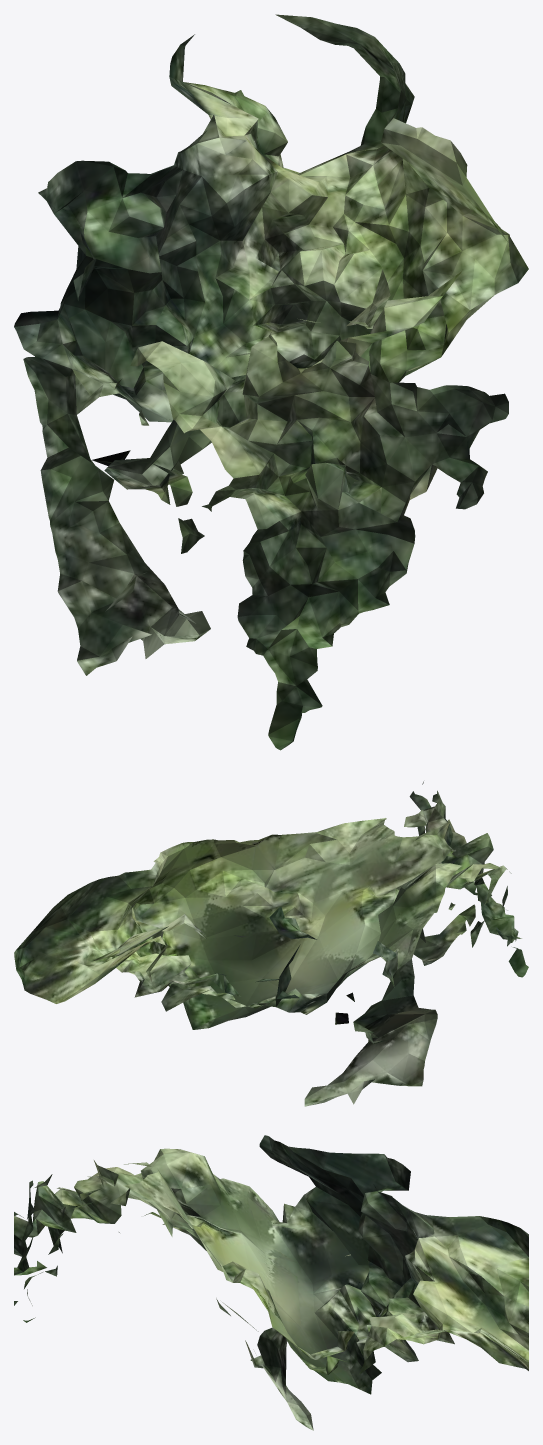
3 renders of one model, top to bottom at view 1: azimuth 30°, elevation 25°; view 2: azimuth 150°, elevation 25°; view 3: azimuth 270°, elevation 25°, orthographic. The views are drawn at different scales.
Size of the model in its own units: 36.87 by 27.73 by 52.22.
3 materials, 3 textured.
